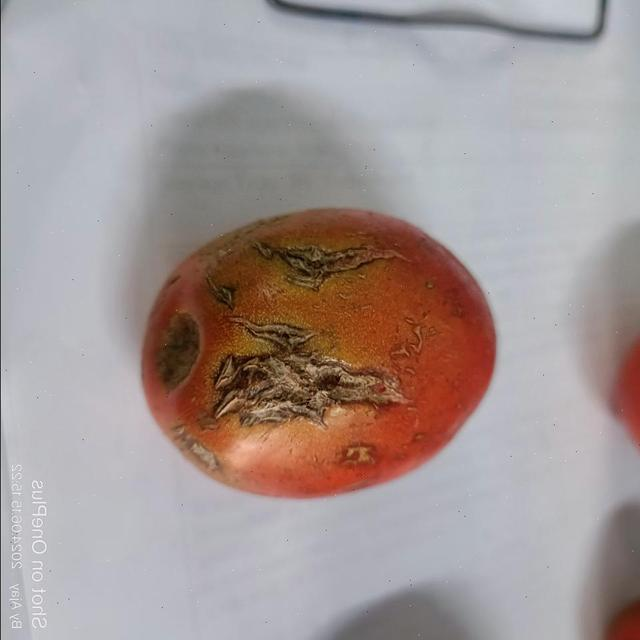Cracking Fruit: (215, 237, 261, 320)
